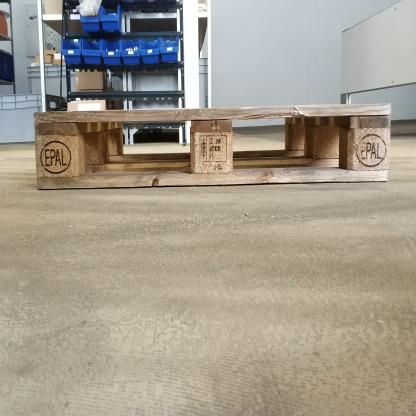BoxFace: (29, 100, 393, 193)
